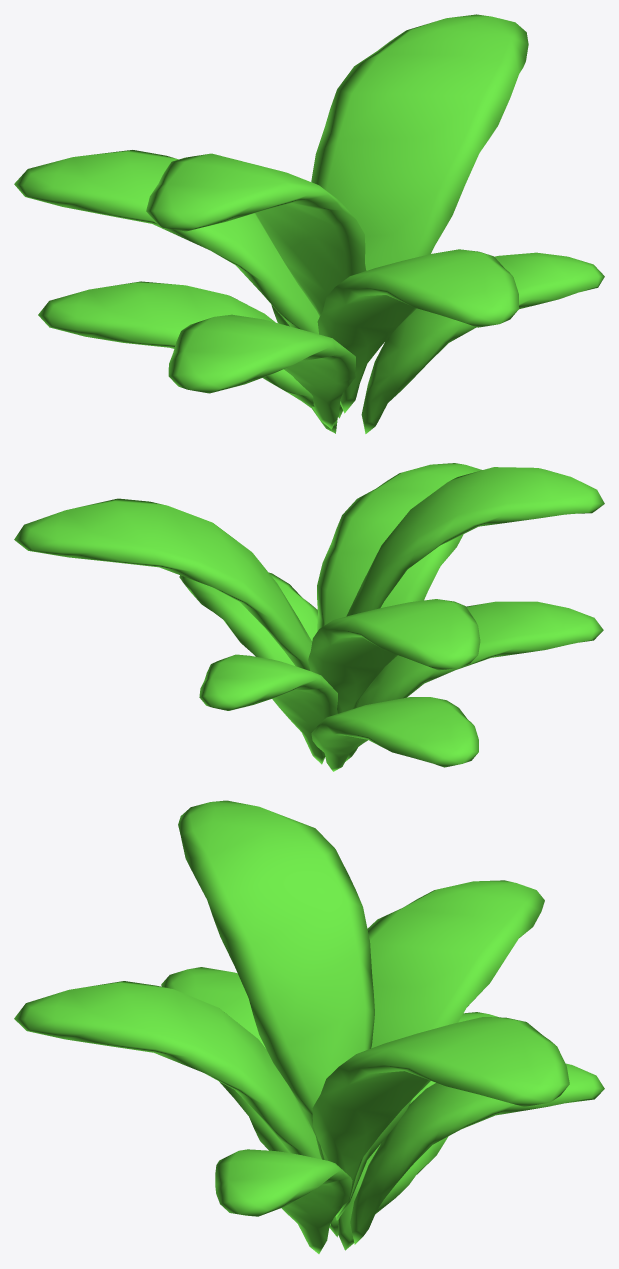
Rendered from dry_grass4.glb.
3 views of the same model, one above another, from view 1: azimuth 30°, elevation 25°; view 2: azimuth 150°, elevation 25°; view 3: azimuth 270°, elevation 25° (orthographic). The views are drawn at different scales.
Visible parts, largest first — view 1: dry_grass4; view 2: dry_grass4; view 3: dry_grass4.
Boxes of the visible parts, box(x1,y1,x2,y2) form: dry_grass4: box(14, 14, 604, 433); dry_grass4: box(14, 463, 604, 771); dry_grass4: box(14, 800, 604, 1253).
Bounding box in the file's own units: 3.14 × 1.96 × 3.07.
